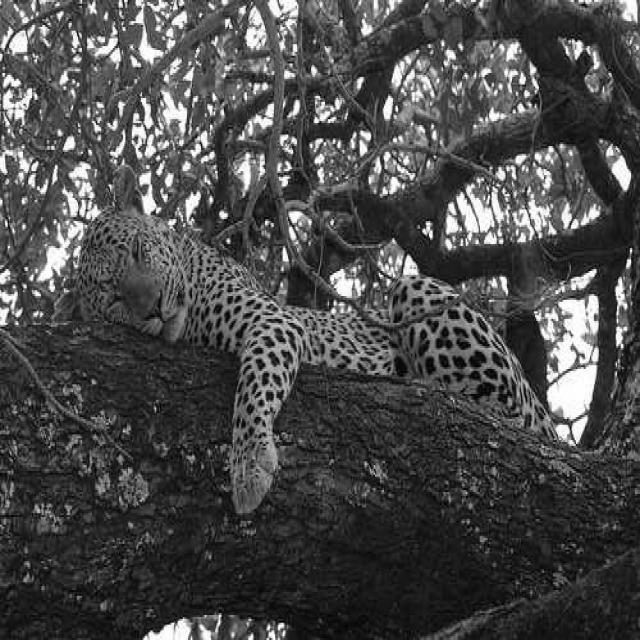Leopard: (51, 161, 561, 517)
